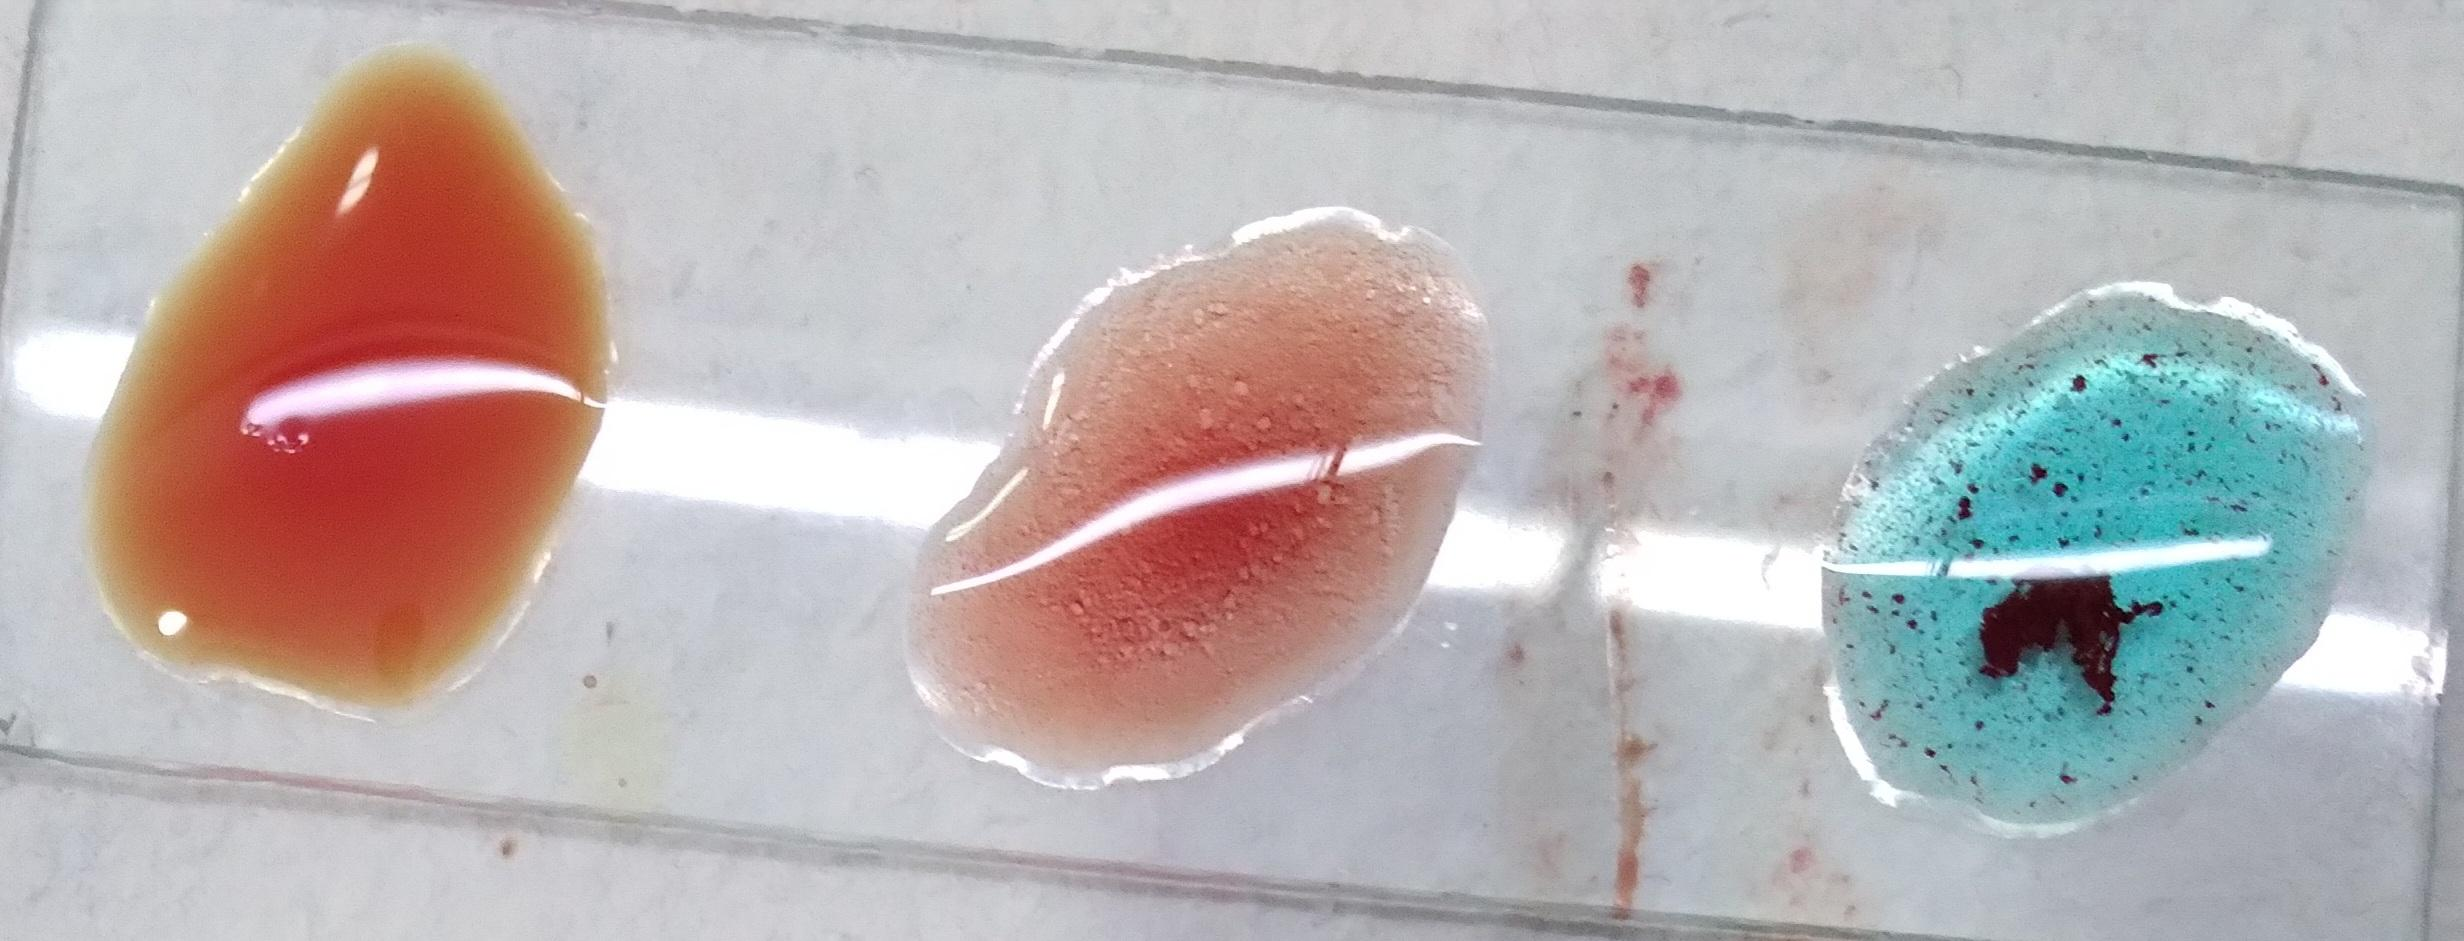A: (134, 93, 610, 655)
D: (1026, 171, 1520, 721)
